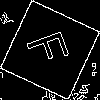F: (25, 25, 79, 69)
